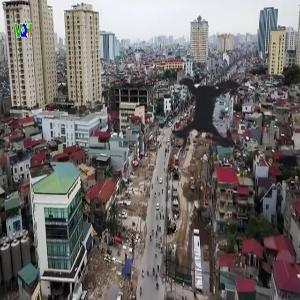drone: (127, 25, 300, 198)
